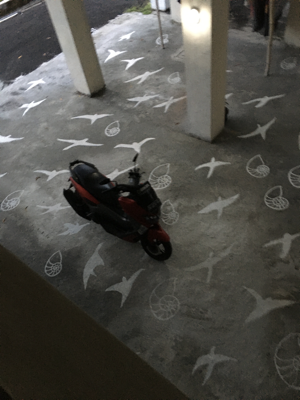moto: (62, 149, 176, 269)
